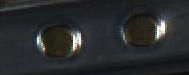joints: (32, 17, 83, 61), (118, 9, 166, 49)
